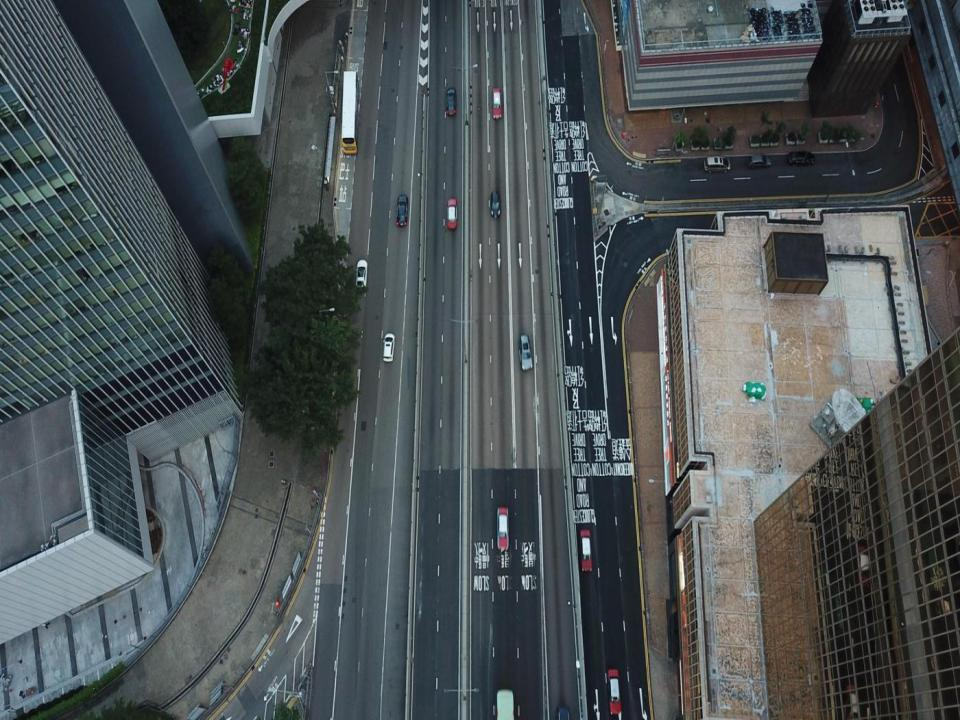bus: (342, 71, 360, 152)
car: (608, 669, 621, 714), (497, 505, 509, 551), (579, 529, 592, 570), (519, 333, 532, 371), (704, 156, 730, 174), (381, 333, 396, 362), (355, 260, 368, 291), (446, 198, 458, 229), (790, 150, 813, 166), (396, 194, 408, 224), (747, 154, 770, 169), (446, 88, 458, 115), (492, 87, 502, 119), (490, 190, 500, 220)
